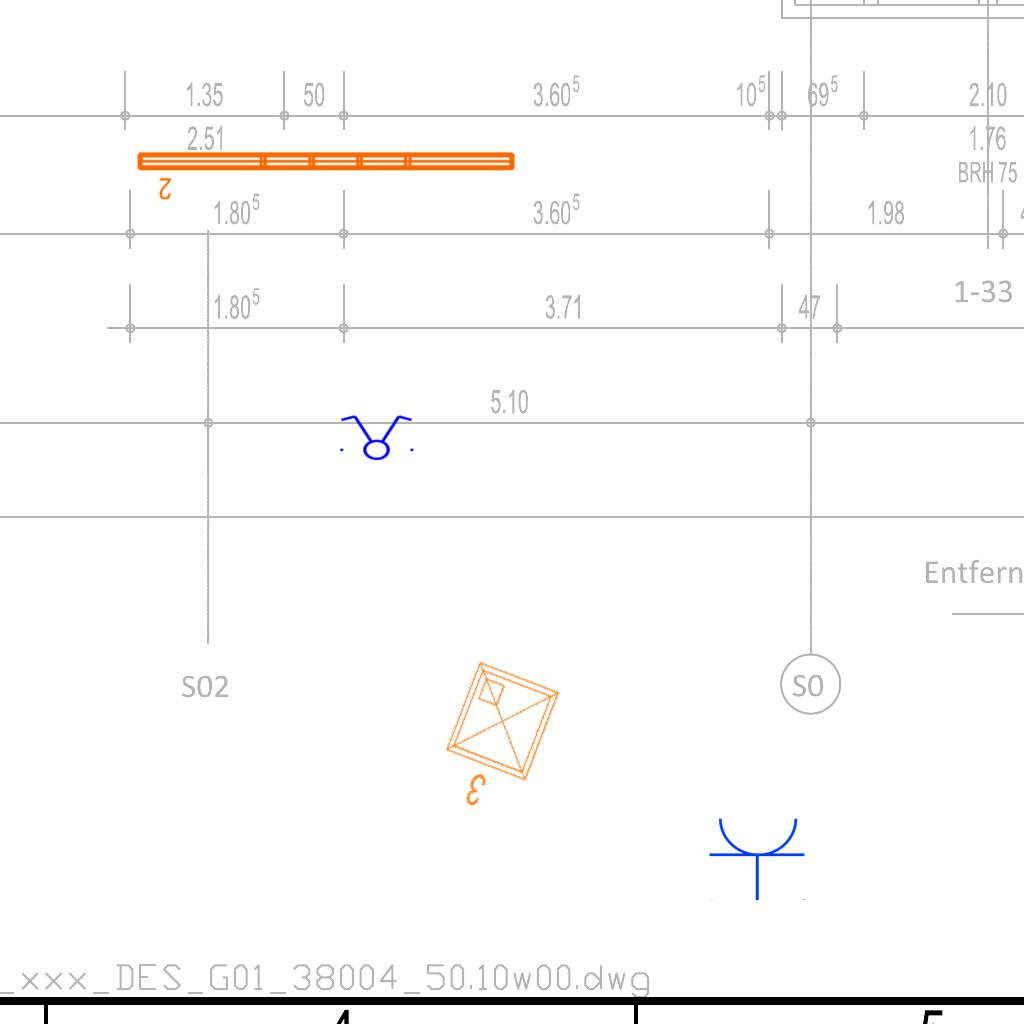Ambulanz_Pendelleuchte_LED: (133, 146, 520, 202)
Einbaudownlights_LED_Konferenzraeume: (421, 652, 573, 830)
Schukosteckdose_einfach: (708, 814, 808, 901)
Serienschalter: (334, 413, 418, 461)
